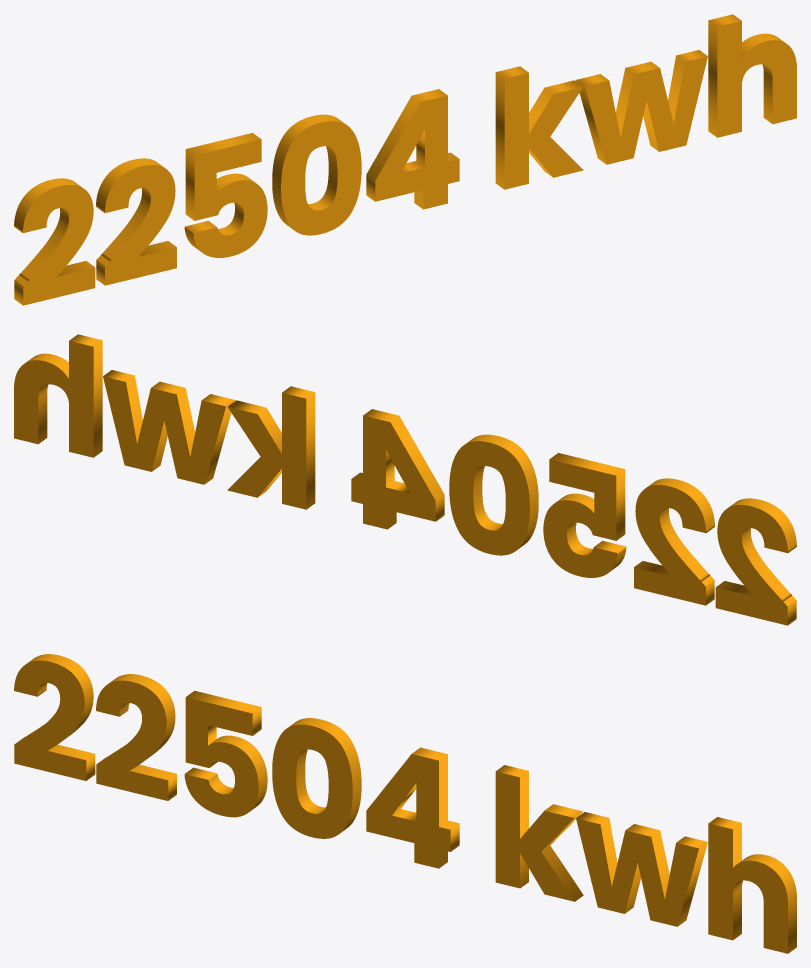
Rendered from simsekhayaletyazi.gltf.
3 renders of one model, top to bottom at view 1: azimuth 30°, elevation 25°; view 2: azimuth 150°, elevation 25°; view 3: azimuth 330°, elevation 25°, orthographic.
Visible parts, largest first — view 1: simsekyazihayalet; view 2: simsekyazihayalet; view 3: simsekyazihayalet.
Boxes of the visible parts, x1,y1,x2,y2 form: simsekyazihayalet: (14,14,796,305); simsekyazihayalet: (14,334,796,625); simsekyazihayalet: (14,654,796,953).
Size of the model in its own units: 0.1523 by 0.021 by 0.00304.
